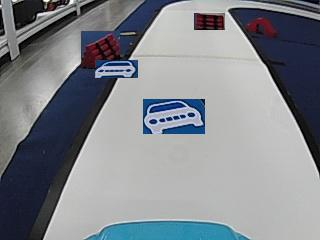bridge: (246, 16, 276, 35)
